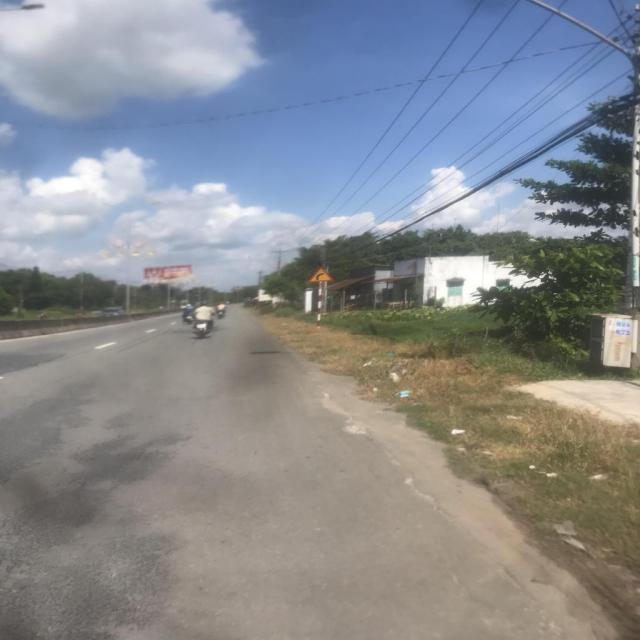201-cho-ngoat-nguy-hiem: (308, 265, 336, 282)
